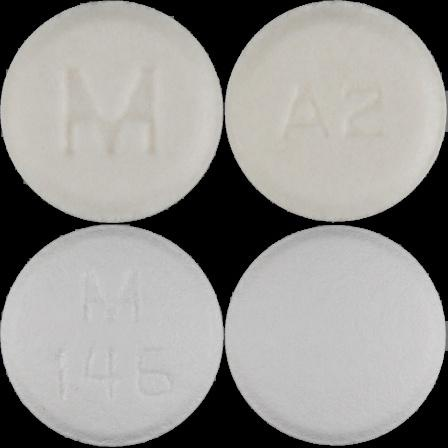55154-5511: (0, 0, 224, 224)
